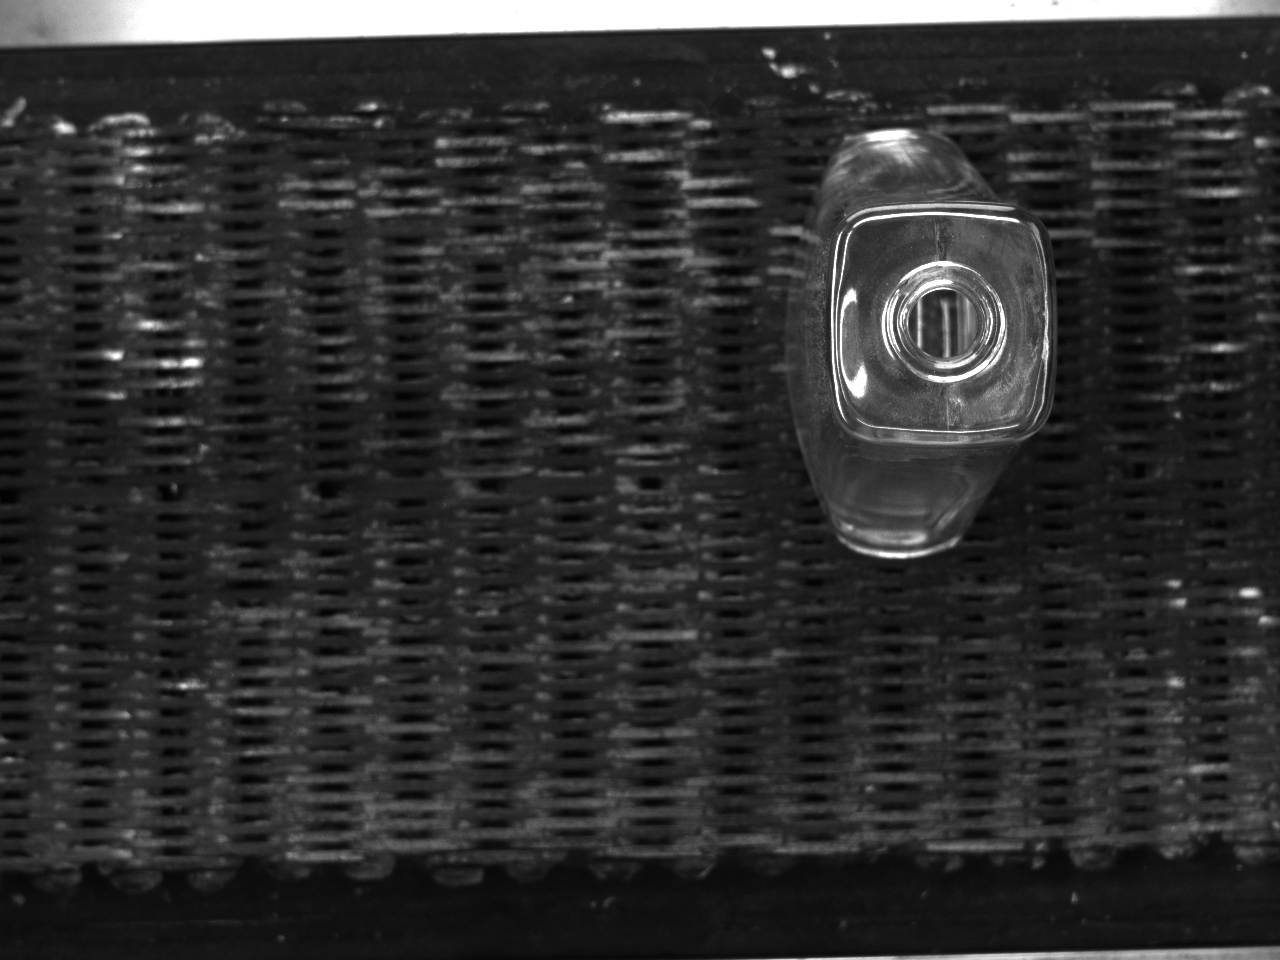bottleneck: (880, 262, 1007, 382)
